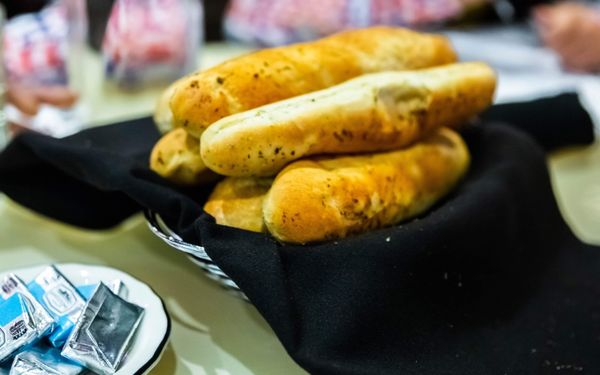pasta: (152, 24, 465, 149)
